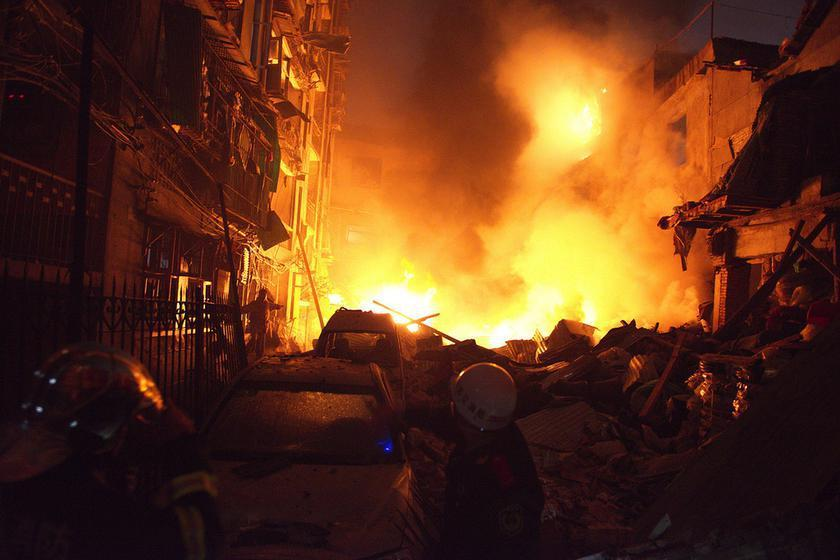fire: (342, 46, 680, 334)
